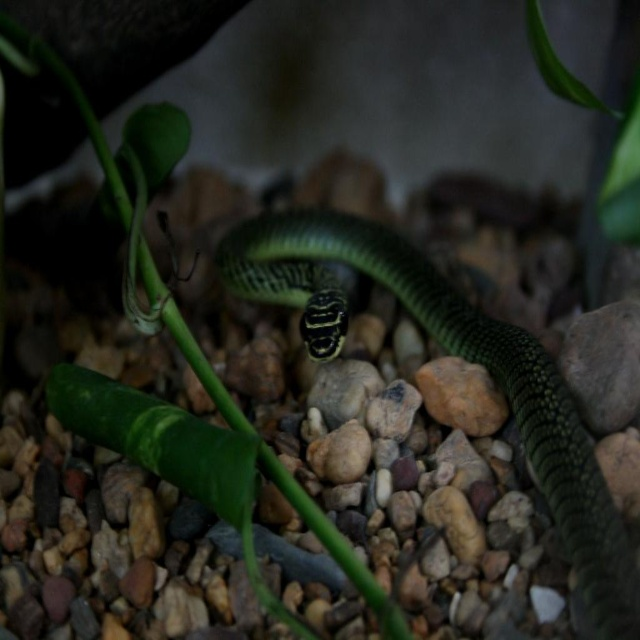Snake: (214, 207, 640, 640)
